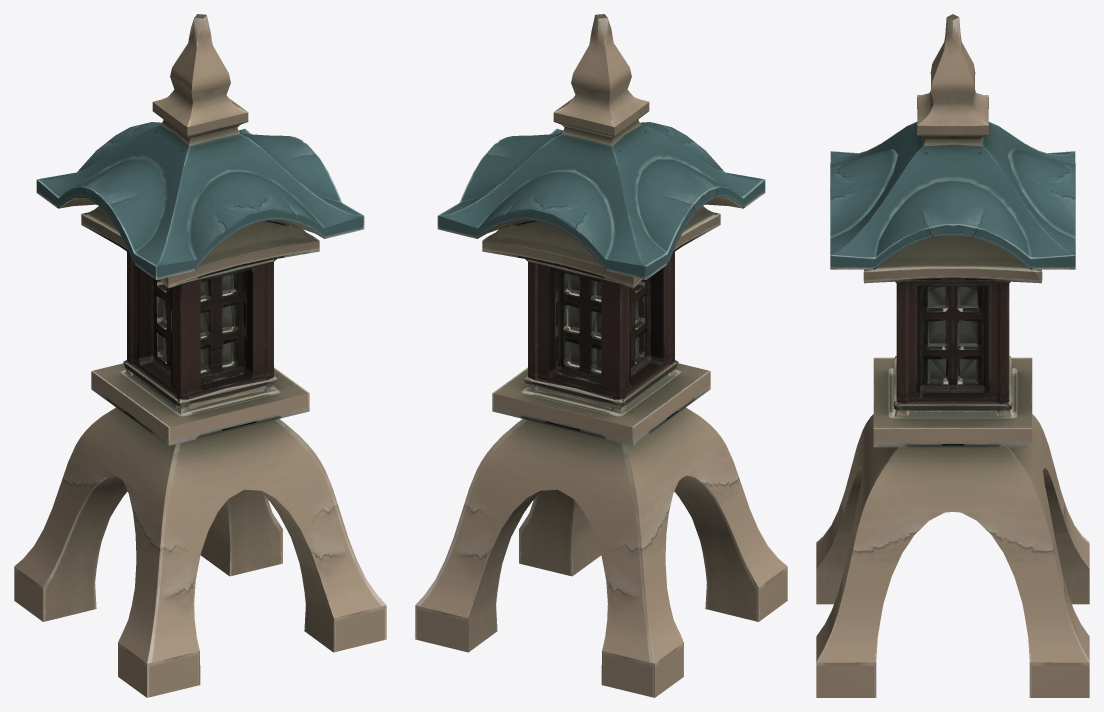
File: stoneLantern.fbx
3 renders of one model, left to right at view 1: azimuth 30°, elevation 25°; view 2: azimuth 150°, elevation 25°; view 3: azimuth 270°, elevation 25°, orthographic. The views are drawn at different scales.
Visible parts, largest first — view 1: polySurface13; view 2: polySurface13; view 3: polySurface13.
Boxes of the visible parts, x1,y1,x2,y2 form: polySurface13: (14, 14, 386, 697); polySurface13: (415, 14, 787, 697); polySurface13: (816, 14, 1089, 697).
Size of the model in its own units: 5.82 by 14.01 by 5.59.
1 material, 1 textured.
